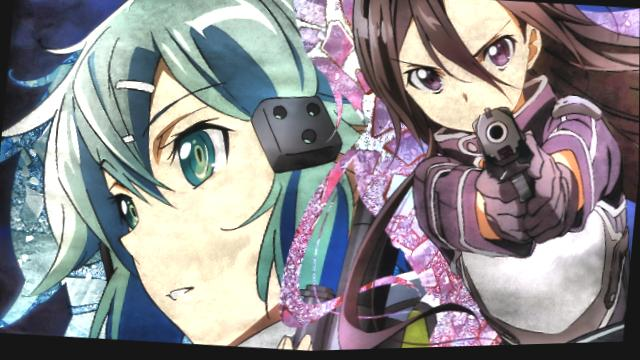pistol: (450, 97, 569, 244)
